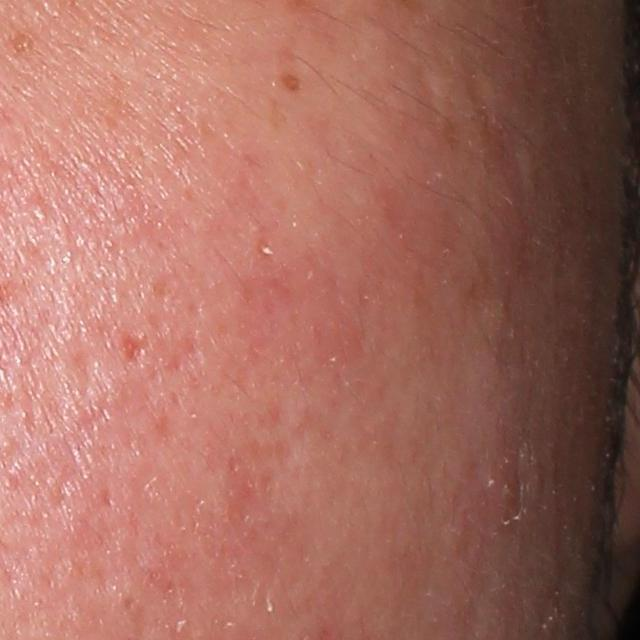atrophic_scar: (462, 52, 498, 123), (118, 331, 145, 362)
melasma: (277, 48, 305, 95), (6, 26, 47, 57)
